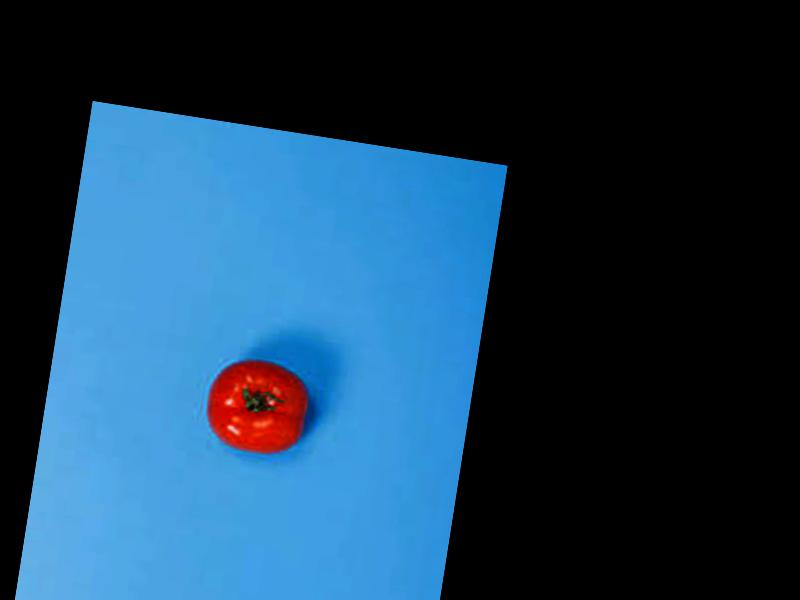Tomato: (199, 350, 314, 458)
